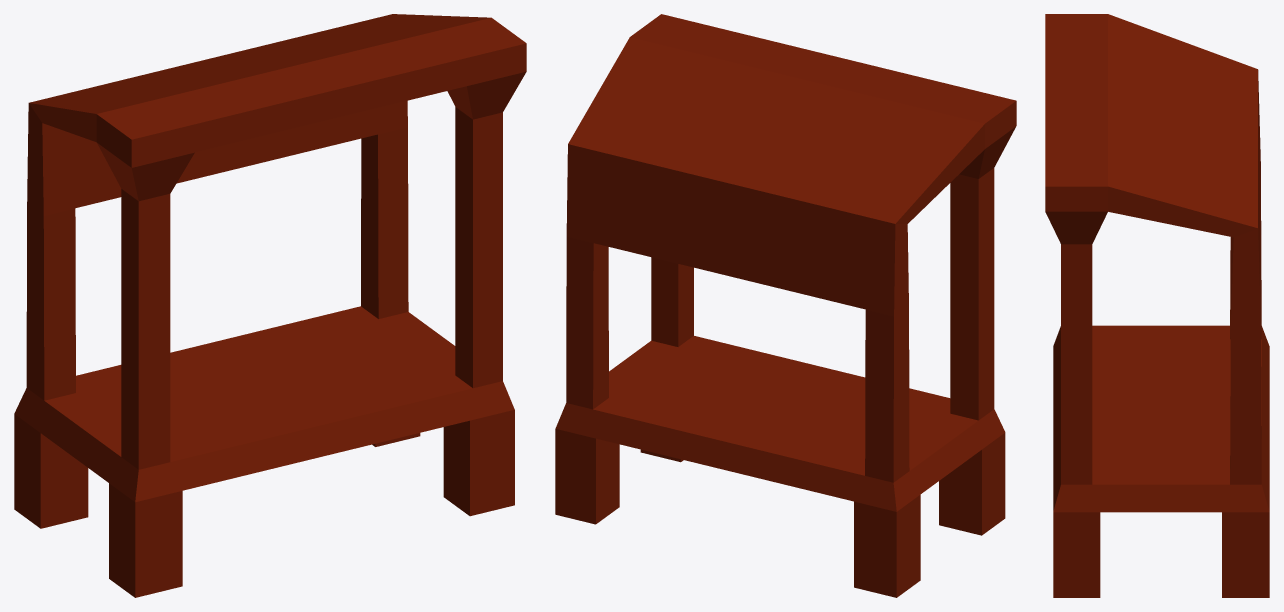
The model's file is shopStand.fbx.
3 views of the same model, side by side, from view 1: azimuth 30°, elevation 25°; view 2: azimuth 150°, elevation 25°; view 3: azimuth 270°, elevation 25° (orthographic). The views are drawn at different scales.
Visible parts, largest first — view 1: ShopStand; view 2: ShopStand; view 3: ShopStand.
Boxes of the visible parts, x1,y1,x2,y2 form: ShopStand: [14, 14, 526, 597]; ShopStand: [555, 14, 1016, 597]; ShopStand: [1045, 14, 1269, 597].
Bounding box in the file's own units: 325 × 365 × 179.
